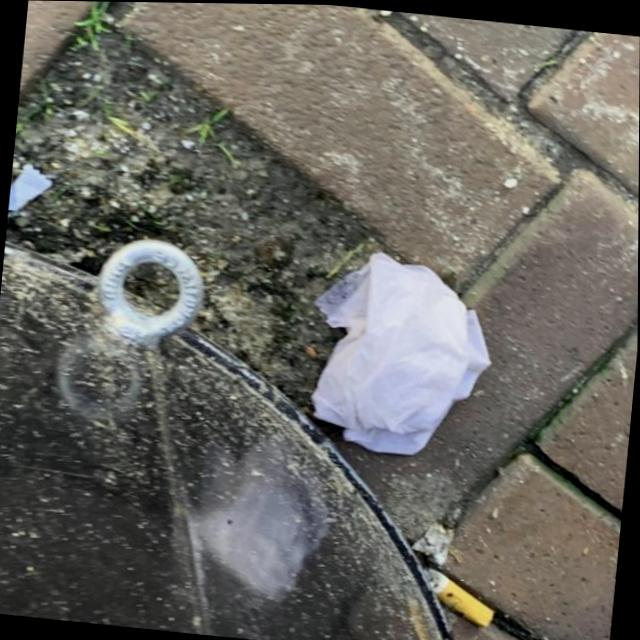Paper: (298, 242, 502, 462)
